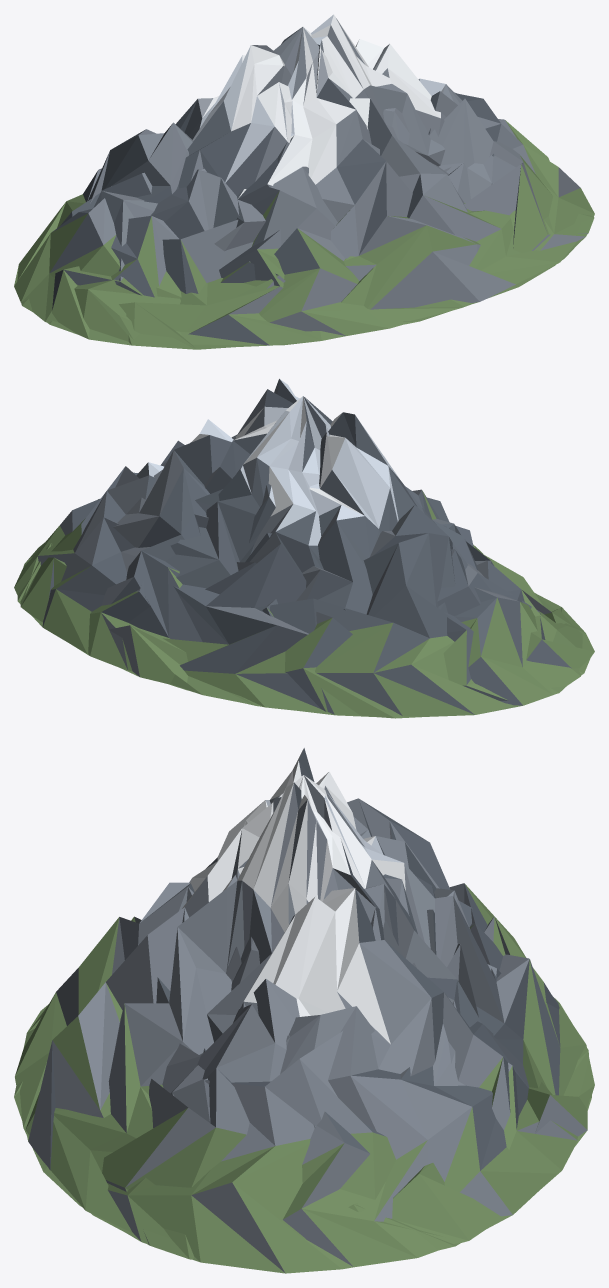
The model's file is vegetation.glb.
The picture shows the model from 3 angles, top to bottom: view 1: azimuth 30°, elevation 25°; view 2: azimuth 150°, elevation 25°; view 3: azimuth 270°, elevation 25°; orthographic projection. The views are drawn at different scales.
Visible parts, largest first — view 1: mountain_snowy_a, mountain_snowy_b, mountain_snowy_c; view 2: mountain_snowy_a, mountain_snowy_b, mountain_snowy_c; view 3: mountain_snowy_b, mountain_snowy_c, mountain_snowy_a.
Part boxes in pixels (left/top/right/bottom): mountain_snowy_a: left=17, top=27, right=594, bottom=348; mountain_snowy_b: left=21, top=39, right=594, bottom=349; mountain_snowy_c: left=14, top=14, right=576, bottom=345; mountain_snowy_a: left=17, top=396, right=590, bottom=716; mountain_snowy_b: left=20, top=412, right=594, bottom=718; mountain_snowy_c: left=14, top=378, right=582, bottom=716; mountain_snowy_b: left=15, top=748, right=587, bottom=1273; mountain_snowy_c: left=14, top=782, right=591, bottom=1267; mountain_snowy_a: left=23, top=775, right=594, bottom=1259.
Size of the model in its own units: 989 by 404 by 657.
